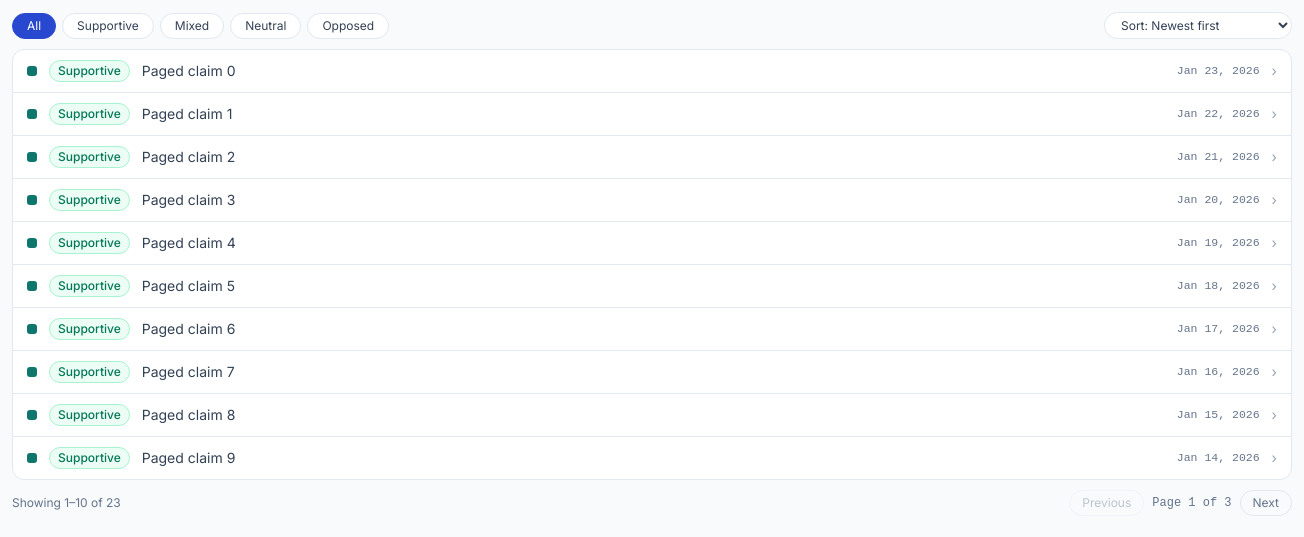
it: EvidenceList › paginates 10 rows per page with Previous/Next and resets on filter change
Expected: the text "Page 1 of 3" is shown, [1152,495,1232,511]
Expected: the text "Showing 1–10 of 23" is shown, [12,495,121,511]
Click the button "Next" at (1266,503), box [1240,490,1292,516]
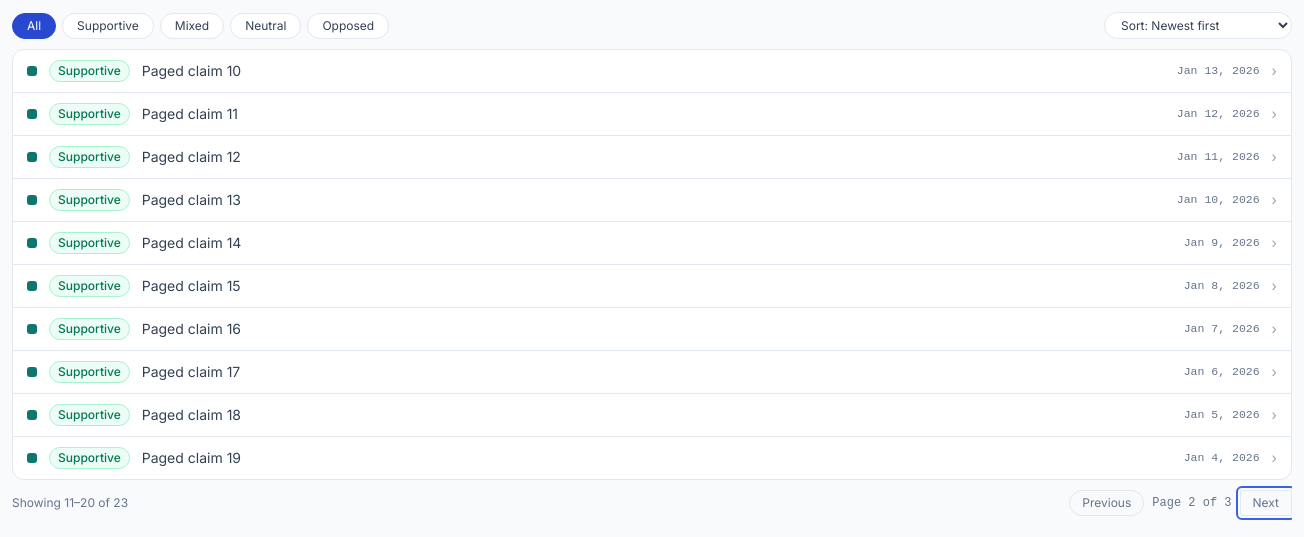
Result: the text "Page 2 of 3" is shown at [1152,495,1232,511]
Result: the text "Showing 11–20 of 23" is shown at [12,495,128,511]
Click the button "Next" at (1266,503), box [1240,490,1292,516]
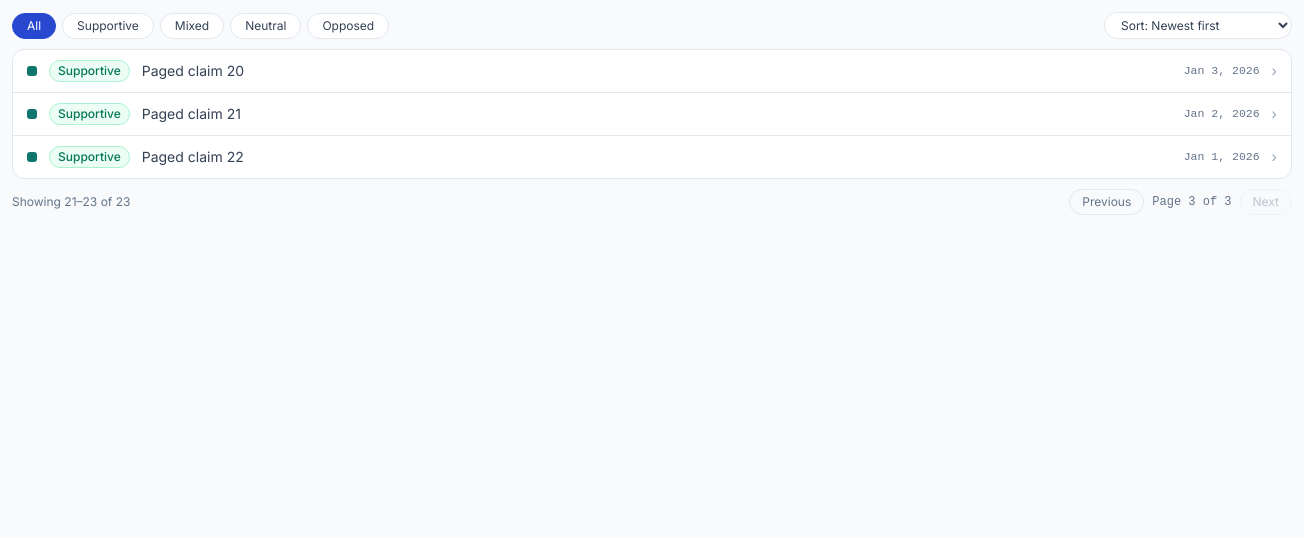
Result: the text "Showing 21–23 of 23" is shown at [12,194,130,210]
Result: the button "Next" is disabled at [1240,189,1292,215]
Result: the text "Paged claim 20" is shown 3 times at [142,62,244,79]; [142,105,241,122]; [142,148,244,165]
Click the button "Previous" at (1107,202), box [1069,189,1144,215]
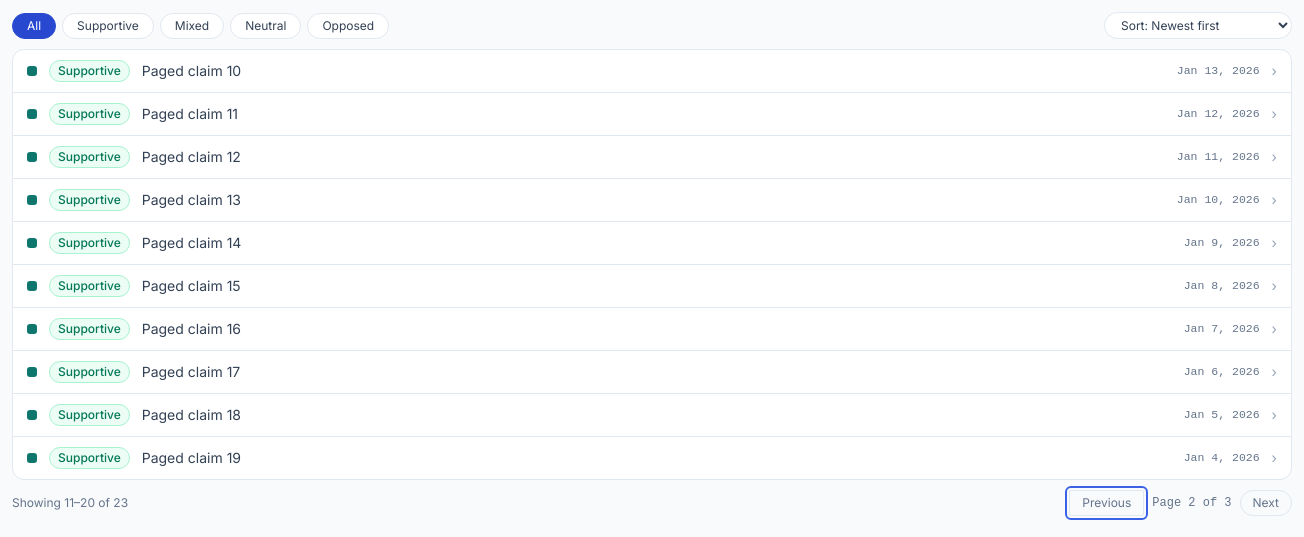
Result: the text "Page 2 of 3" is shown at [1152,495,1232,511]
Click the button "supportive" at (108,26), box [62,12,154,38]
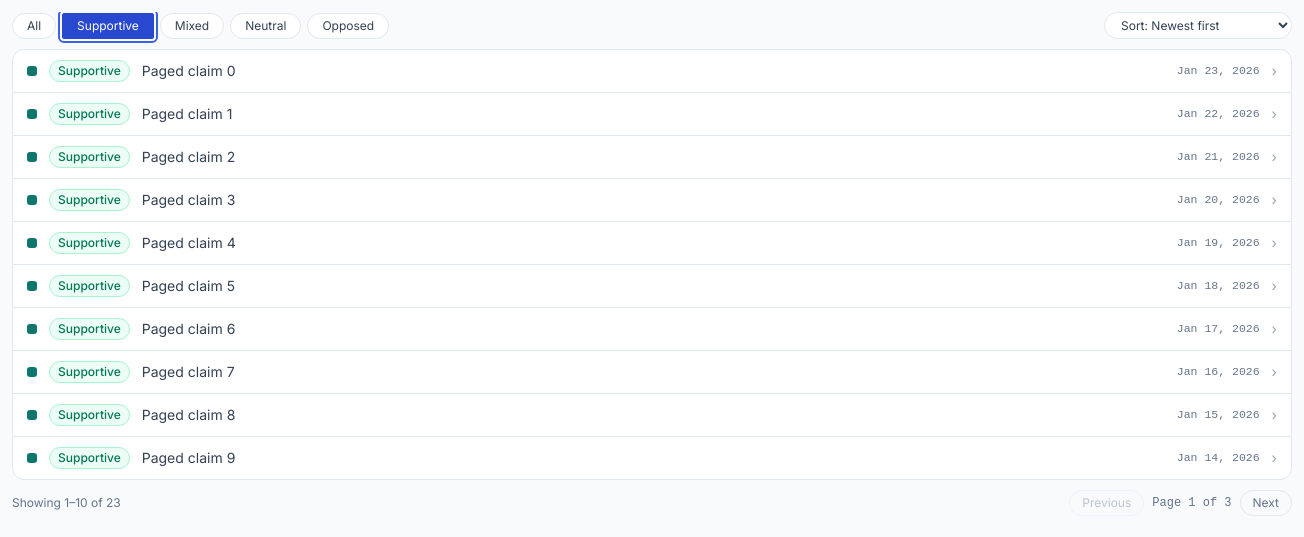
Result: the text "Page 1 of 3" is shown at [1152,495,1232,511]
